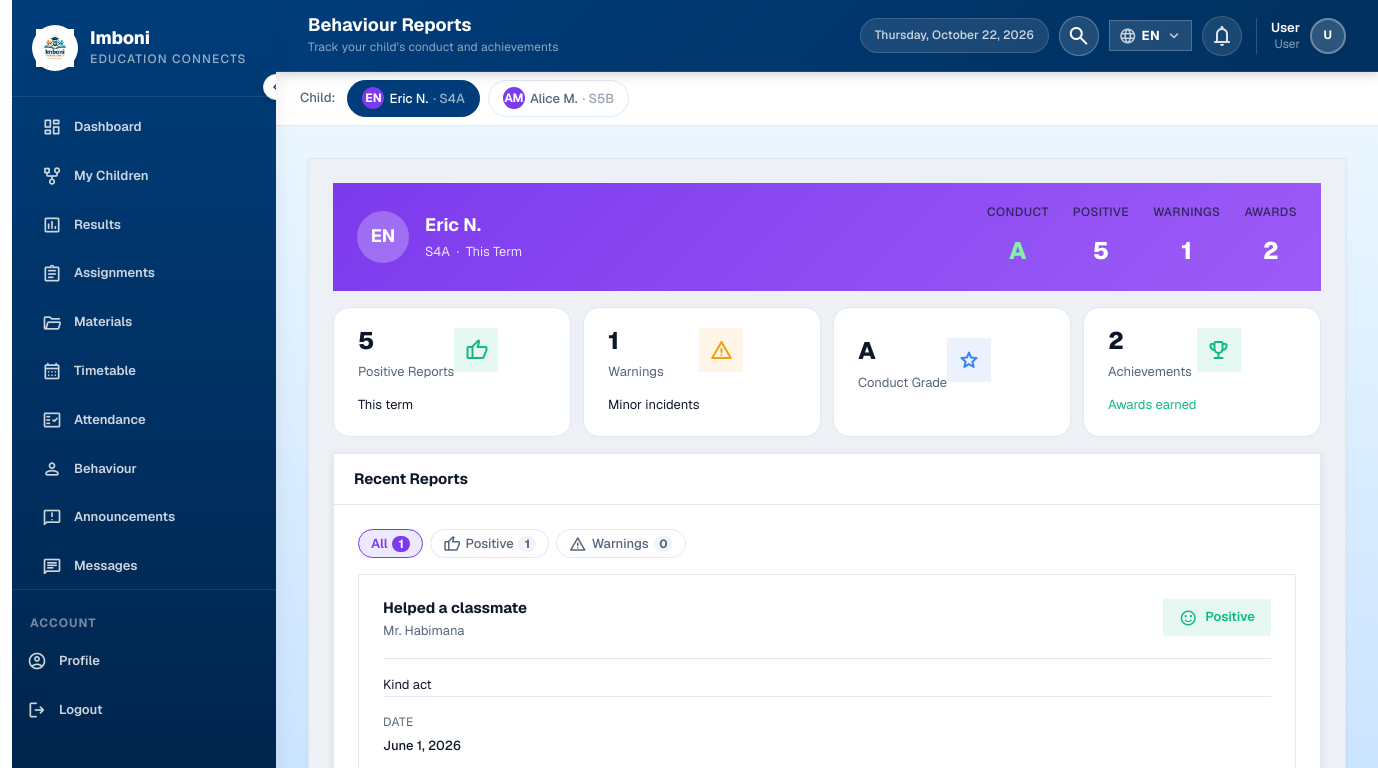
Test: ParentBehaviour › switching the child tab re-fetches behaviour data scoped to that child only
The image size is (1378, 768).
Expected: the heading "Helped a classmate" is shown, [383,599,527,617]
Click the text "Alice M.": (554, 98) [530,90,578,107]
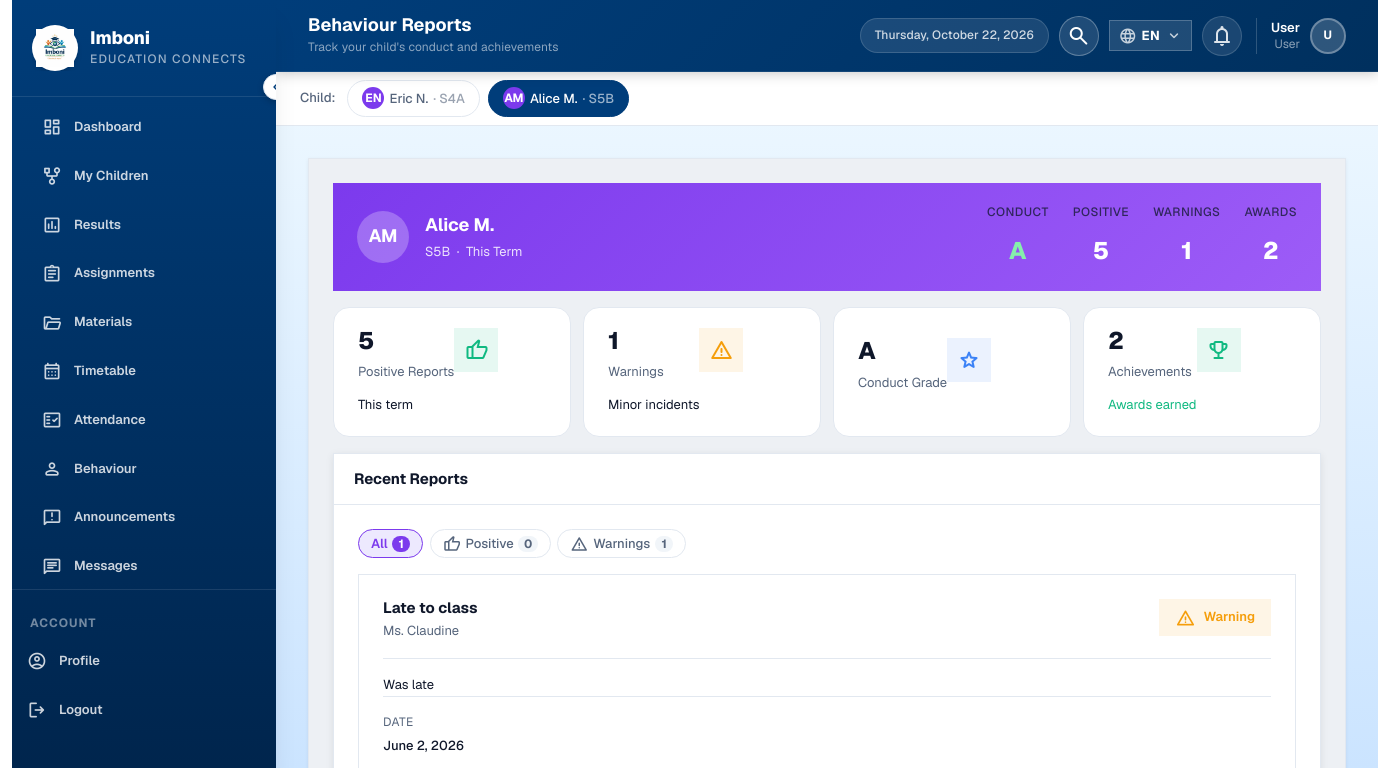
Expected: the heading "Late to class" is shown, [383,599,478,617]
Expected: the heading "Helped a classmate" is gone
